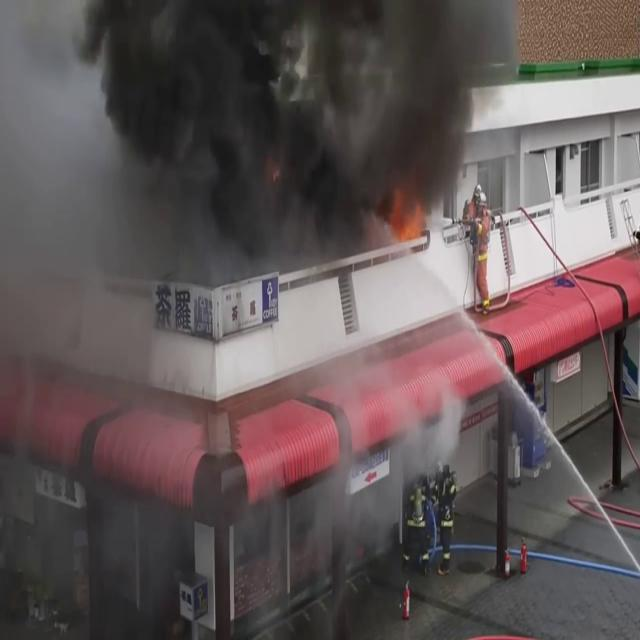Fire: (388, 189, 432, 252)
Smoke: (78, 0, 510, 282)
